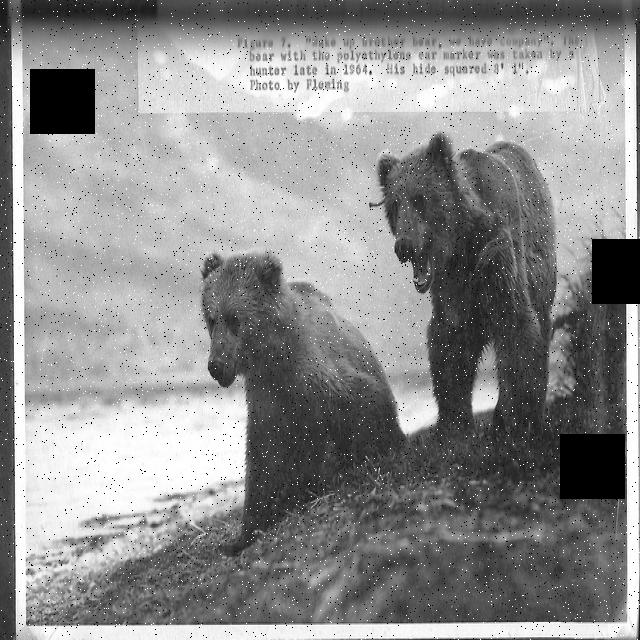Bear: (189, 242, 407, 544), (367, 133, 563, 448)
